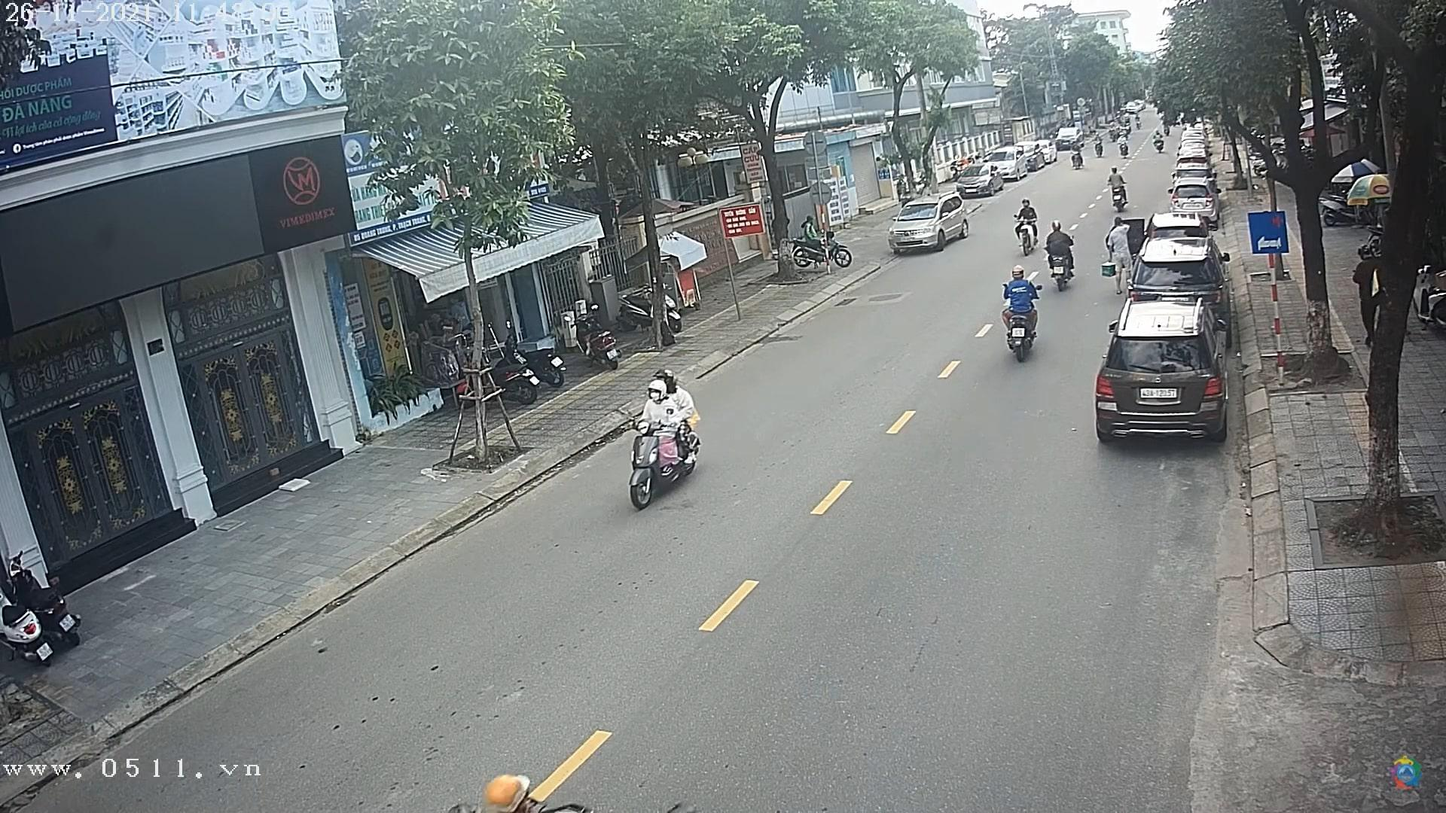car: (1095, 307, 1227, 445), (1127, 232, 1229, 303), (886, 196, 974, 253), (958, 160, 1010, 197), (1168, 184, 1216, 214), (1170, 157, 1210, 181)
motorbike: (630, 413, 706, 515), (1004, 308, 1042, 363), (1049, 247, 1078, 300), (1015, 213, 1038, 256)
